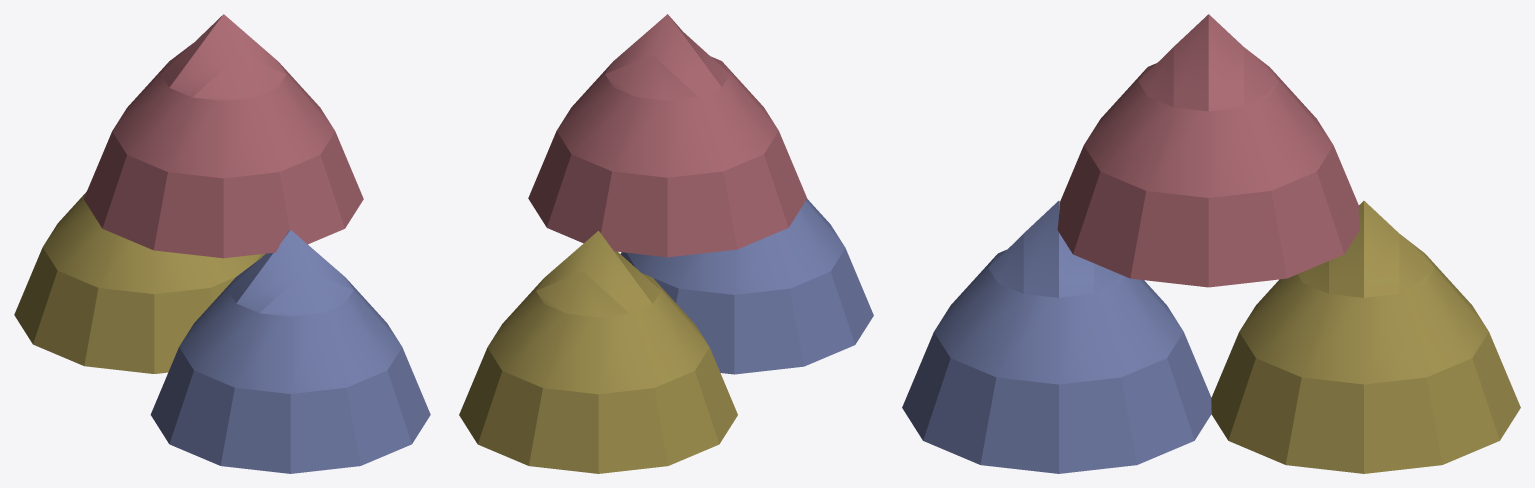
Rendered from GCHIPBIG.fbx.
3 renders of one model, left to right at view 1: azimuth 30°, elevation 25°; view 2: azimuth 150°, elevation 25°; view 3: azimuth 270°, elevation 25°, orthographic. The views are drawn at different scales.
Parts seen in each view (by area): view 1: pCylinder8; view 2: pCylinder8; view 3: pCylinder8.
Boxes of the visible parts, x1=… form: pCylinder8: x1=14, y1=14, x2=430, y2=473; pCylinder8: x1=459, y1=14, x2=873, y2=473; pCylinder8: x1=902, y1=14, x2=1520, y2=473.
Bounding box in the file's own units: 36.64 × 50.75 × 72.31.
